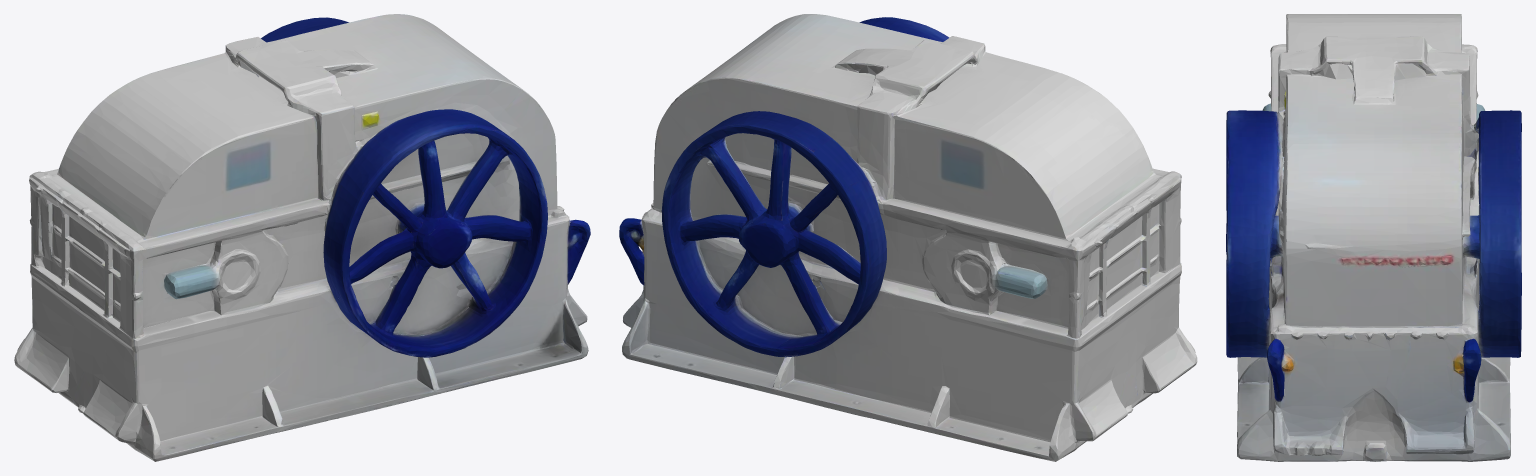
File: roll_crusher.glb
3 renders of one model, left to right at view 1: azimuth 30°, elevation 25°; view 2: azimuth 150°, elevation 25°; view 3: azimuth 270°, elevation 25°, orthographic.
Parts seen in each view (by area): view 1: geometry_0; view 2: geometry_0; view 3: geometry_0.
Part boxes in pixels (x1,y1,x2,y2): geometry_0: (14, 14, 590, 461); geometry_0: (619, 14, 1197, 461); geometry_0: (1226, 14, 1521, 461).
Bounding box in the file's own units: 1 × 0.6128 × 0.5456.
1 material, 1 textured.
